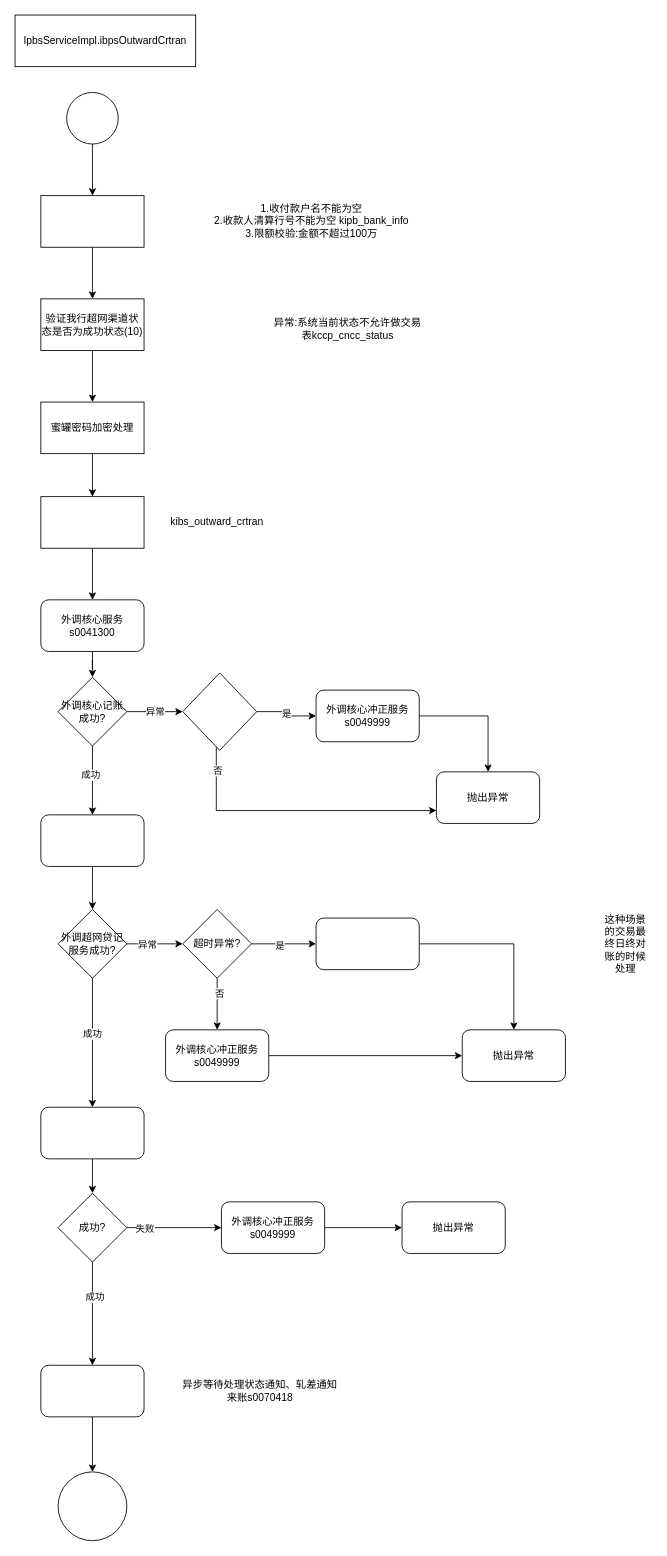
This 667x1556 diagram has some shape labels left out. The shapes that lost their labels are listed below. From the top down, each one's centre as x and y in pixels, then its label:
At [92,221]: "必要的业务参数校验".
At [92,522]: "贷记往账交易流水表登记".
At [219,711]: "外调核心记账 超时异常?".
At [92,840]: "外调超网贷记服务 s0030412".
At [367,943]: "没有登记重试表,超网超时拿不到报文表示号，交易主表状态渠道不确定".
At [92,1132]: "处理外调超网贷记服务结果".
At [92,1390]: "贷记往账交易流水表状态更新为”等待轧差回执“".
